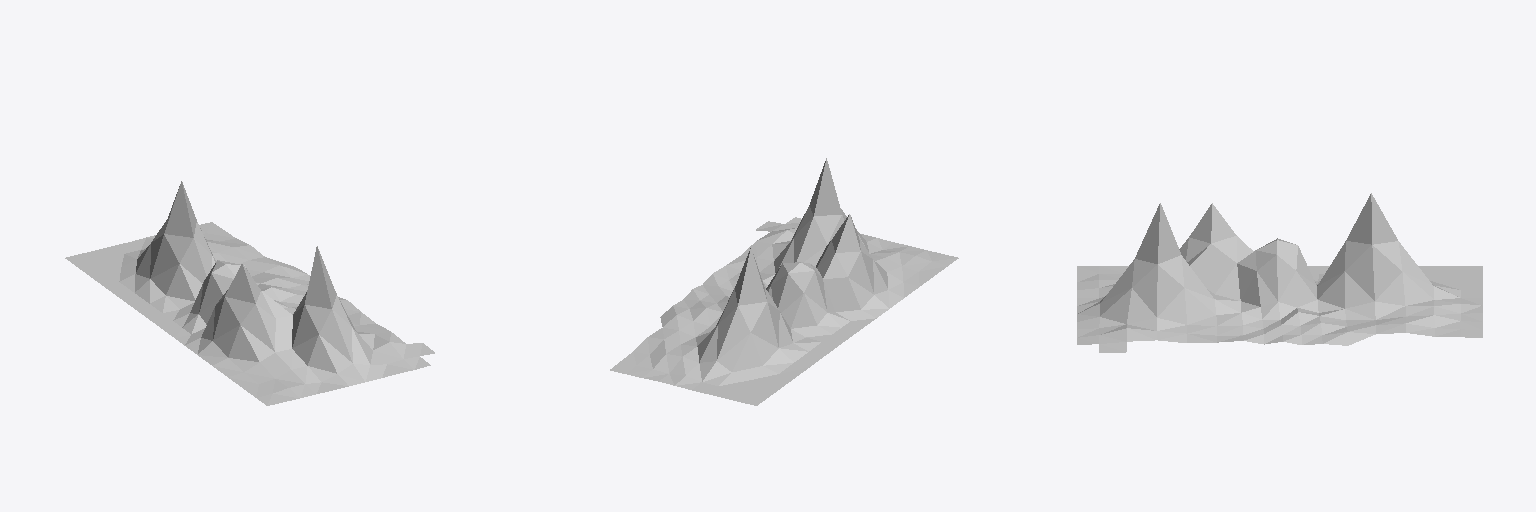
Rendered from endside.obj.
3 renders of one model, left to right at view 1: azimuth 30°, elevation 25°; view 2: azimuth 150°, elevation 25°; view 3: azimuth 270°, elevation 25°, orthographic.
Parts seen in each view (by area): view 1: pasted__pasted__polySurface1 pasted__pasted__Mesh pasted__group1; view 2: pasted__pasted__polySurface1 pasted__pasted__Mesh pasted__group1; view 3: pasted__pasted__polySurface1 pasted__pasted__Mesh pasted__group1.
Part boxes in pixels (left/top/right/bottom): pasted__pasted__polySurface1 pasted__pasted__Mesh pasted__group1: left=65, top=181, right=434, bottom=405; pasted__pasted__polySurface1 pasted__pasted__Mesh pasted__group1: left=610, top=158, right=958, bottom=405; pasted__pasted__polySurface1 pasted__pasted__Mesh pasted__group1: left=1077, top=193, right=1482, bottom=352.
Size of the model in its own units: 10.91 by 6.3 by 21.26.